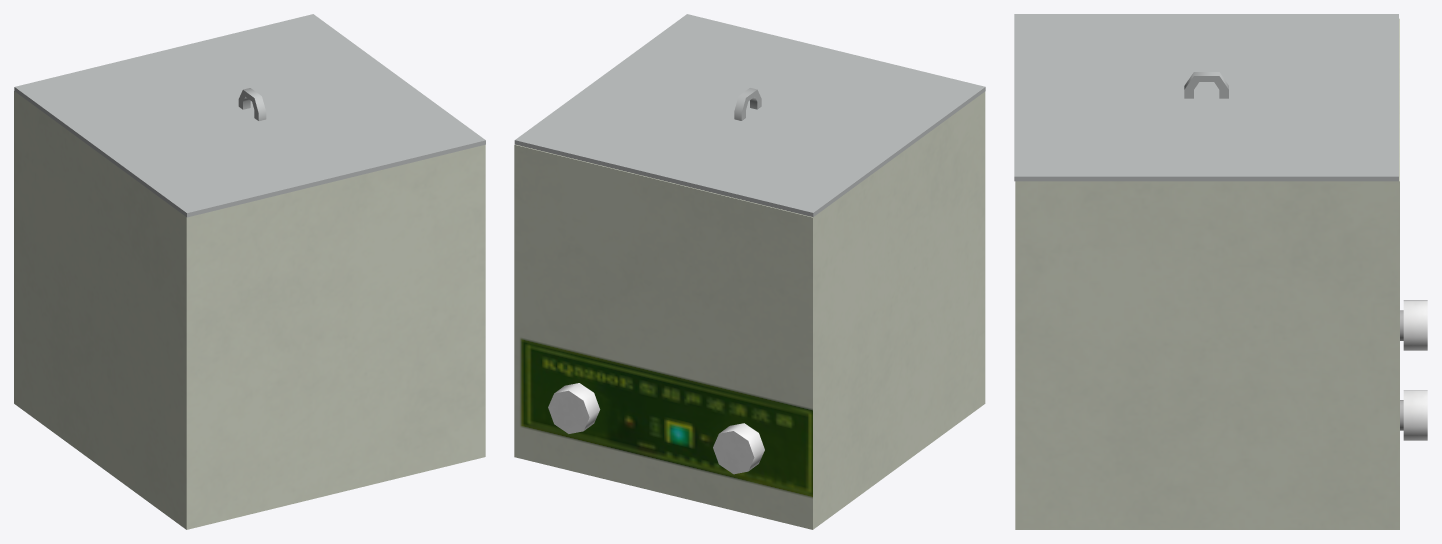
File: qingxiji.fbx
3 views of the same model, side by side, from view 1: azimuth 30°, elevation 25°; view 2: azimuth 150°, elevation 25°; view 3: azimuth 270°, elevation 25° (orthographic). The views are drawn at different scales.
Parts seen in each view (by area): view 1: qingxiji2, qingxiji3; view 2: qingxiji2, qingxiji3; view 3: qingxiji2, qingxiji3.
Boxes of the visible parts, x1=… form: qingxiji2: x1=14, y1=91, x2=485, y2=529; qingxiji3: x1=14, y1=14, x2=485, y2=217; qingxiji2: x1=514, y1=91, x2=985, y2=529; qingxiji3: x1=514, y1=14, x2=985, y2=216; qingxiji2: x1=1015, y1=18, x2=1427, y2=529; qingxiji3: x1=1014, y1=14, x2=1398, y2=181.
Size of the model in its own units: 28 by 30.18 by 30.08.
Materials: 2 (1 with a texture image).
